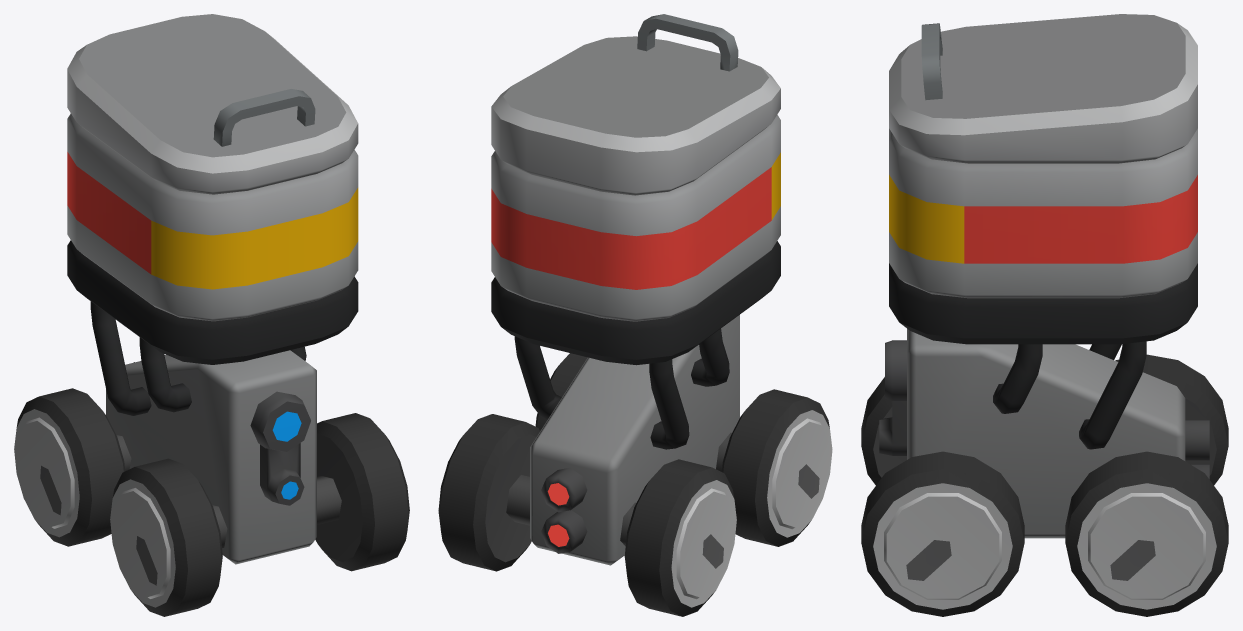
Rendered from Delivery_drone_008.glb.
3 views of the same model, side by side, from view 1: azimuth 30°, elevation 25°; view 2: azimuth 150°, elevation 25°; view 3: azimuth 270°, elevation 25° (orthographic). The views are drawn at different scales.
Visible parts, largest first — view 1: Delivery_drone_008; view 2: Delivery_drone_008; view 3: Delivery_drone_008.
Boxes of the visible parts, <box> form: Delivery_drone_008: <box>14,14,409,616</box>; Delivery_drone_008: <box>438,14,832,616</box>; Delivery_drone_008: <box>861,14,1228,616</box>.
Bounding box in the file's own units: 0.5372 × 1.05 × 0.6722.
2 materials, 2 textured.
